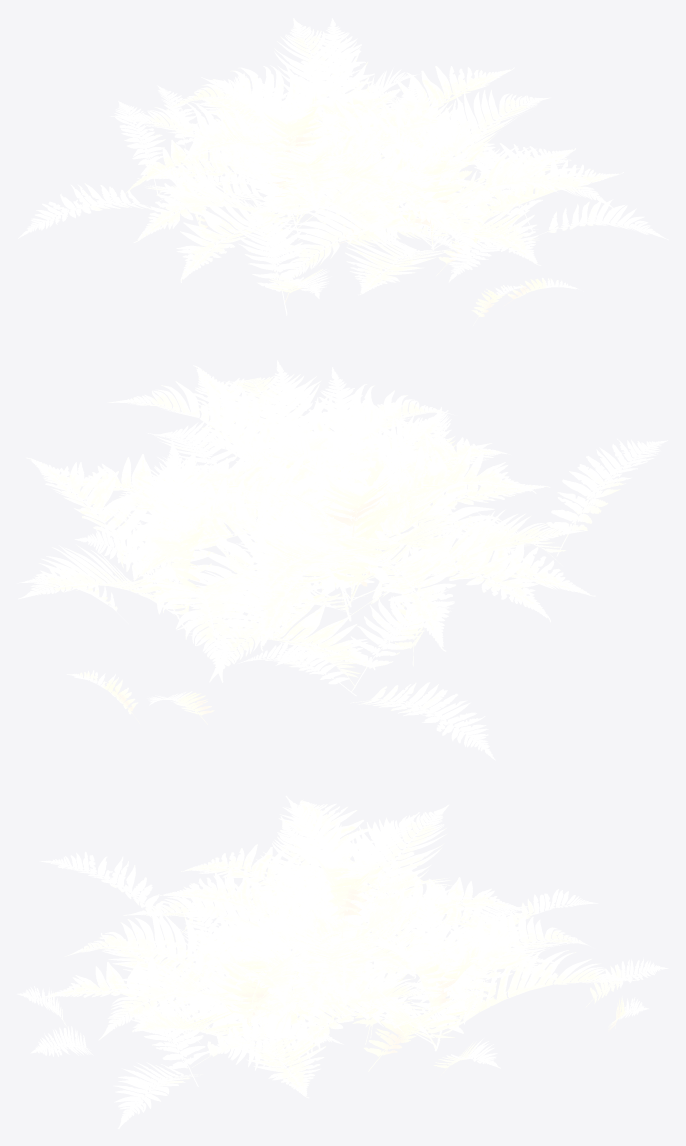
The picture shows the model from 3 angles, top to bottom: view 1: azimuth 30°, elevation 25°; view 2: azimuth 150°, elevation 25°; view 3: azimuth 270°, elevation 25°; orthographic projection. The views are drawn at different scales.
Parts seen in each view (by area): view 1: SM_DR_Fern_01_LOD0; view 2: SM_DR_Fern_01_LOD0; view 3: SM_DR_Fern_01_LOD0.
Part boxes in pixels (x1,y1,x2,y2): SM_DR_Fern_01_LOD0: [18, 18, 668, 325]; SM_DR_Fern_01_LOD0: [17, 360, 667, 760]; SM_DR_Fern_01_LOD0: [17, 795, 668, 1128].
Bounding box in the file's own units: 1.03 × 0.4044 × 1.17.
1 material, 1 textured.
